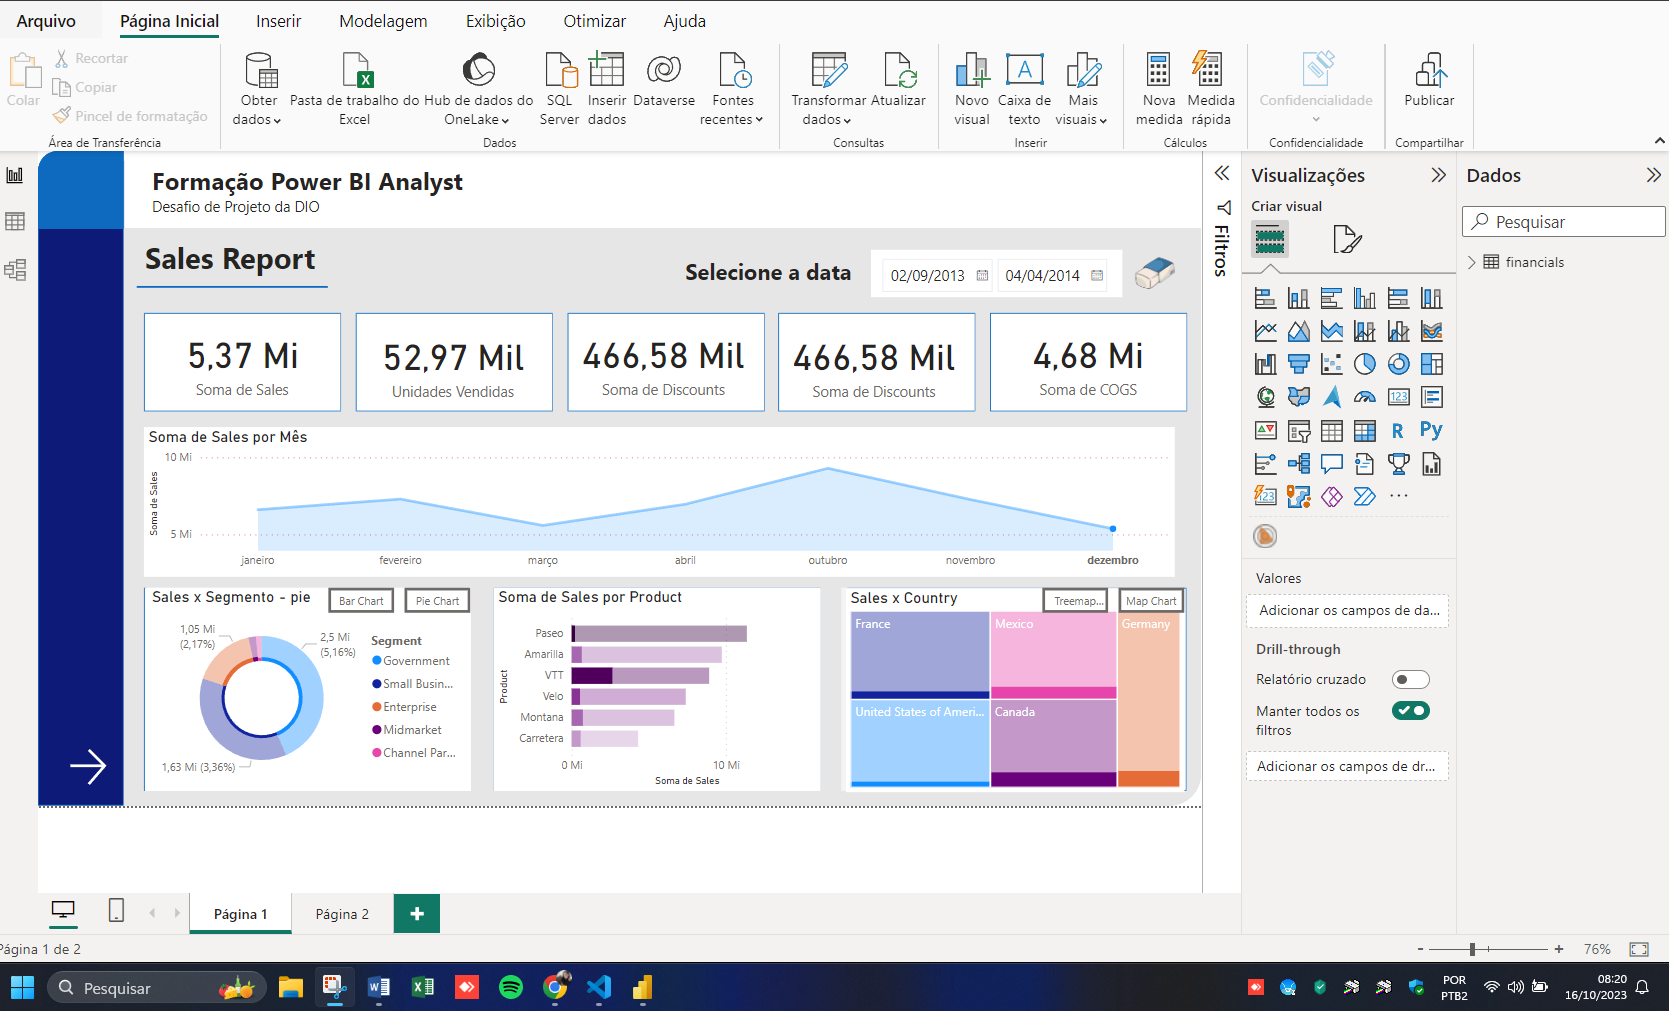

The dashboard page shown, as its layout file describes it:
{"tool":"powerbi","page":{"name":"Página 1","canvas":[1280,720],"ordinal":0},"visuals":[{"type":"shape","box":[15,10,1265,710],"z":0},{"type":"textbox","box":[113,90.4,217.4,53.6],"z":0,"group":"g5"},{"type":"image","title":"clean","box":[1193.3,100,70,70],"z":0,"group":"g2"},{"type":"shape","box":[116.7,177.5,217.1,108.6],"z":0,"group":"g1"},{"type":"clusteredBarChart","title":"Sales x segmento - bar","fields":{"Y":["Sum(financials.Sales)"],"Category":["financials.Segment"]},"box":[118.8,479.7,356.5,223.2],"z":0,"group":"g4"},{"type":"map","title":"Sales x Country","fields":{"Category":["financials.Country"],"Size":["Sum(financials.Sales)"]},"box":[883.4,479.7,375.4,223.2],"z":0,"group":"g3"},{"type":"shape","box":[0,0,94.3,720],"z":1000},{"type":"slicer","fields":{"Values":["financials.Date"]},"box":[915.9,108.7,276.8,52.2],"z":1000,"group":"g2"},{"type":"shape","box":[349.5,177.5,217.1,108.6],"z":1000,"group":"g1"},{"type":"donutChart","title":"Sales x Segmento - pie","fields":{"Y":["Sum(financials.Sales)"],"Category":["financials.Segment"]},"box":[120.2,479.7,355.1,223.2],"z":1000,"group":"g4"},{"type":"treemap","title":"Sales x Country","fields":{"Group":["financials.Country"],"Values":["Sum(financials.Sales)"]},"box":[888.4,481.4,372.5,223.2],"z":1000,"group":"g3"},{"type":"actionButton","title":"Botão - pie","box":[402.9,479.7,72.5,27.5],"z":1500,"group":"g4"},{"type":"shape","box":[0,0,94.3,85.7],"z":2000},{"type":"textbox","box":[707,111.6,205.8,45],"z":2000,"group":"g2"},{"type":"shape","box":[582.4,177.5,217.1,108.6],"z":2000,"group":"g1"},{"type":"actionButton","title":"Botão - bar","box":[318.8,479.7,72.5,27.5],"z":2000,"group":"g4"},{"type":"shape","box":[95,0,1185,85],"z":3000},{"type":"actionButton","box":[1202.9,113,47.8,47.8],"z":3000,"group":"g2"},{"type":"shape","box":[813.8,177.5,217.1,108.6],"z":3000,"group":"g1"},{"type":"textbox","box":[120,8.6,492.9,68.6],"z":4000},{"type":"shape","title":"Cartões","box":[1046.7,177.5,217.1,108.6],"z":4000,"group":"g1"},{"type":"actionButton","title":"Botão - map","box":[1188.3,479.8,72.5,27.5],"z":4750,"group":"g3"},{"type":"group","id":"g1","title":"Cartões","box":[108.9,136.1,1154.9,150.6],"z":5000},{"type":"card","fields":{"Values":["Sum(financials. Sales)"]},"box":[118.3,178.3,213.3,106.7],"z":5000,"group":"g1"},{"type":"card","fields":{"Values":["Sum(financials.COGS)"]},"box":[1048.3,178.3,213.3,106.7],"z":6000,"group":"g1"},{"type":"shape","box":[501.7,480,360,223.3],"z":6000},{"type":"card","fields":{"Values":["Sum(financials.Discounts)"]},"box":[581.7,178.3,213.3,106.7],"z":7000,"group":"g1"},{"type":"shape","title":"Salesxsegmento - bar","box":[116.7,480,358.3,223.3],"z":7000},{"type":"card","fields":{"Values":["Sum(financials.Discounts)"]},"box":[813.3,180,213.3,106.7],"z":8000,"group":"g1"},{"type":"shape","box":[890,480,373.3,223.3],"z":8000},{"type":"actionButton","title":"Botão - treemap","box":[1104.2,479.8,72.5,27.5],"z":8500,"group":"g3"},{"type":"card","fields":{"Values":["Sum(financials.Units Sold)"]},"box":[350,180,213.3,106.7],"z":9000,"group":"g1"},{"type":"donutChart","title":"Sales x Segmento - pie","fields":{"Y":["Sum(financials.Sales)"],"Category":["financials.Segment"]},"box":[120.3,479.7,355.1,223.2],"z":9000},{"type":"shape","box":[108.9,136.1,210,26.7],"z":10000,"group":"g1"},{"type":"stackedAreaChart","fields":{"Category":["financials.Date.Variation.Hierarquia de datas.Mês"],"Y":["Sum(financials.Sales)"]},"box":[116.7,303.3,1133.3,165],"z":10000},{"type":"clusteredBarChart","fields":{"Y":["Sum(financials. Sales)"],"Category":["financials.Product"]},"box":[501.7,480,360,223.3],"z":11000},{"type":"group","id":"g2","title":"filtro por data","box":[707,100,556.3,70],"z":12000},{"type":"clusteredBarChart","fields":{"Y":["Sum(financials.Sales)"],"Category":["financials.Segment"]},"box":[117.4,479.7,358,223.2],"z":13000},{"type":"group","id":"g3","title":"Sales x país","box":[29,479.7,1231.9,224.6],"z":14000},{"type":"group","id":"g4","title":"Sales x Segment","box":[118.8,479.7,356.5,223.2],"z":15000},{"type":"group","id":"g5","title":"Title report","box":[113,90.4,217.4,53.6],"z":16000},{"type":"actionButton","box":[29,651.7,100,51],"z":16001,"group":"g3"}]}

Visuals, with their boxes on the page's 1280x720 design canvas (x1, y1, x2, y2). These are canvas units, not pixel positions in the 1669x1011 screenshot, which may show the page scaled, cropped or inside an application window:
shape: rect(15, 10, 1280, 720)
textbox: rect(113, 90, 330, 144)
"clean" image: rect(1193, 100, 1263, 170)
shape: rect(117, 178, 334, 286)
"Sales x segmento - bar" clusteredBarChart: rect(119, 480, 475, 703)
"Sales x Country" map: rect(883, 480, 1259, 703)
shape: rect(0, 0, 94, 720)
slicer - financials.Date: rect(916, 109, 1193, 161)
shape: rect(350, 178, 567, 286)
"Sales x Segmento - pie" donutChart: rect(120, 480, 475, 703)
"Sales x Country" treemap: rect(888, 481, 1261, 705)
"Botão - pie" actionButton: rect(403, 480, 475, 507)
shape: rect(0, 0, 94, 86)
textbox: rect(707, 112, 913, 157)
shape: rect(582, 178, 800, 286)
"Botão - bar" actionButton: rect(319, 480, 391, 507)
shape: rect(95, 0, 1280, 85)
actionButton: rect(1203, 113, 1251, 161)
shape: rect(814, 178, 1031, 286)
textbox: rect(120, 9, 613, 77)
"Cartões" shape: rect(1047, 178, 1264, 286)
"Botão - map" actionButton: rect(1188, 480, 1261, 507)
"Cartões" group: rect(109, 136, 1264, 287)
card - Sum(financials. Sales): rect(118, 178, 332, 285)
card - Sum(financials.COGS): rect(1048, 178, 1262, 285)
shape: rect(502, 480, 862, 703)
card - Sum(financials.Discounts): rect(582, 178, 795, 285)
"Salesxsegmento - bar" shape: rect(117, 480, 475, 703)
card - Sum(financials.Discounts): rect(813, 180, 1027, 287)
shape: rect(890, 480, 1263, 703)
"Botão - treemap" actionButton: rect(1104, 480, 1177, 507)
card - Sum(financials.Units Sold): rect(350, 180, 563, 287)
"Sales x Segmento - pie" donutChart: rect(120, 480, 475, 703)
shape: rect(109, 136, 319, 163)
stackedAreaChart - financials.Date.Variation.Hierarquia de datas.Mês x Sum(financials.Sales): rect(117, 303, 1250, 468)
clusteredBarChart - Sum(financials. Sales) x financials.Product: rect(502, 480, 862, 703)
"filtro por data" group: rect(707, 100, 1263, 170)
clusteredBarChart - Sum(financials.Sales) x financials.Segment: rect(117, 480, 475, 703)
"Sales x país" group: rect(29, 480, 1261, 704)
"Sales x Segment" group: rect(119, 480, 475, 703)
"Title report" group: rect(113, 90, 330, 144)
actionButton: rect(29, 652, 129, 703)
